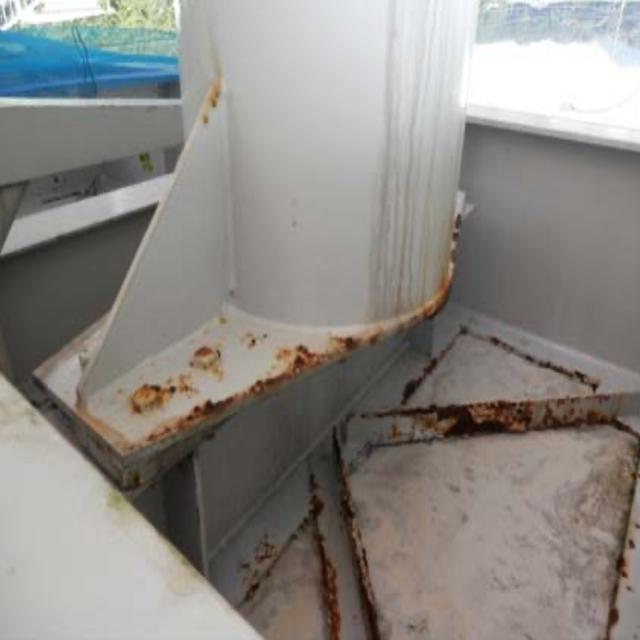corrosion: (94, 306, 629, 568)
